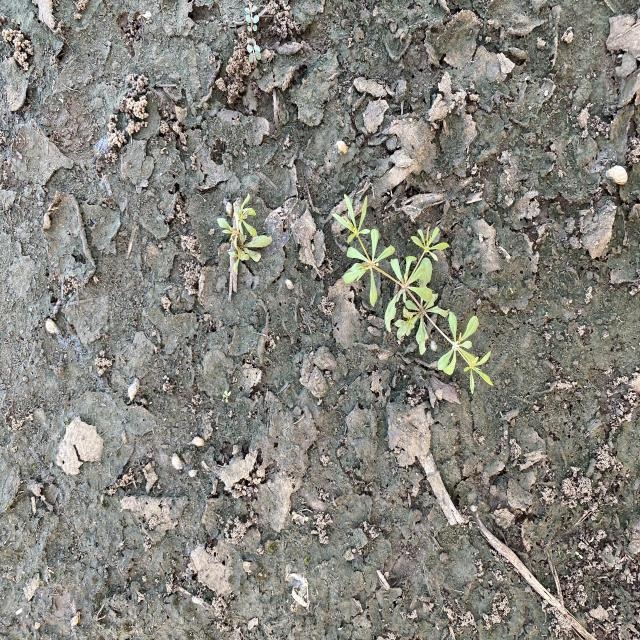Carpetweed: (331, 192, 495, 396), (216, 191, 273, 275)
